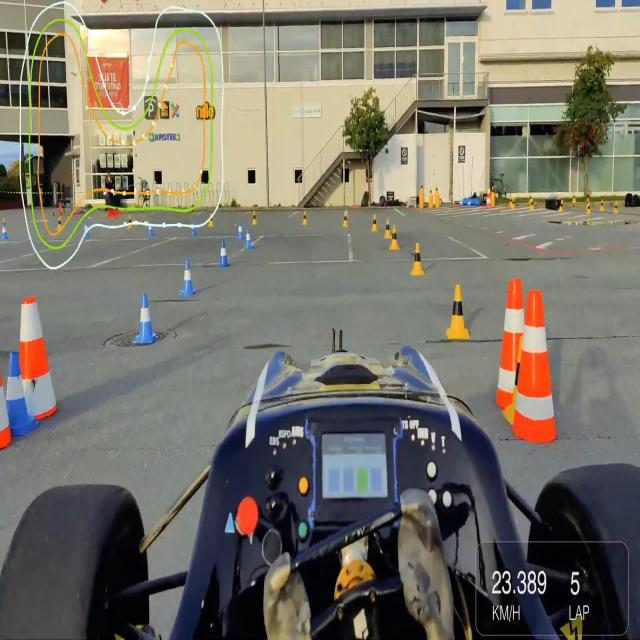blue_cone: (5, 348, 33, 438), (133, 292, 159, 348), (178, 258, 198, 298), (217, 236, 230, 271), (243, 228, 254, 252), (236, 218, 244, 241), (190, 218, 198, 238), (83, 221, 90, 240), (147, 216, 153, 238), (2, 224, 8, 240)
large_orange_cone: (513, 286, 557, 446), (18, 295, 59, 423), (492, 263, 524, 406), (487, 187, 492, 208)
orange_cone: (0, 368, 11, 456)
yellow_cone: (504, 327, 529, 428), (444, 280, 472, 342), (410, 239, 425, 277), (390, 224, 400, 254), (383, 218, 392, 240), (342, 207, 349, 230), (370, 213, 378, 232), (301, 209, 309, 227), (251, 209, 258, 226), (208, 212, 214, 230), (126, 213, 132, 230), (57, 217, 63, 232), (599, 198, 605, 212), (2, 216, 7, 232), (586, 203, 592, 215), (511, 198, 516, 210), (419, 182, 424, 194), (530, 198, 534, 212), (572, 193, 577, 204), (560, 200, 564, 212), (614, 201, 618, 213), (586, 199, 590, 210), (435, 184, 439, 193), (429, 188, 432, 195)
